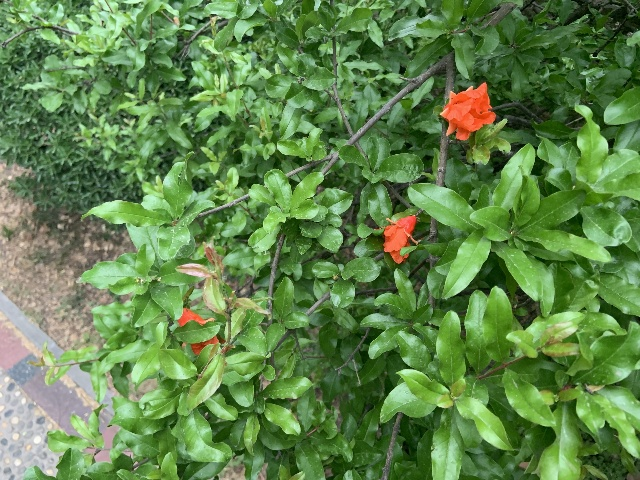flower: (440, 83, 494, 139), (176, 307, 223, 355), (379, 214, 418, 263)
